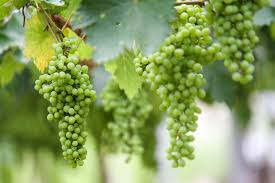grapes: (135, 6, 204, 169), (39, 34, 93, 168), (219, 9, 256, 89)
